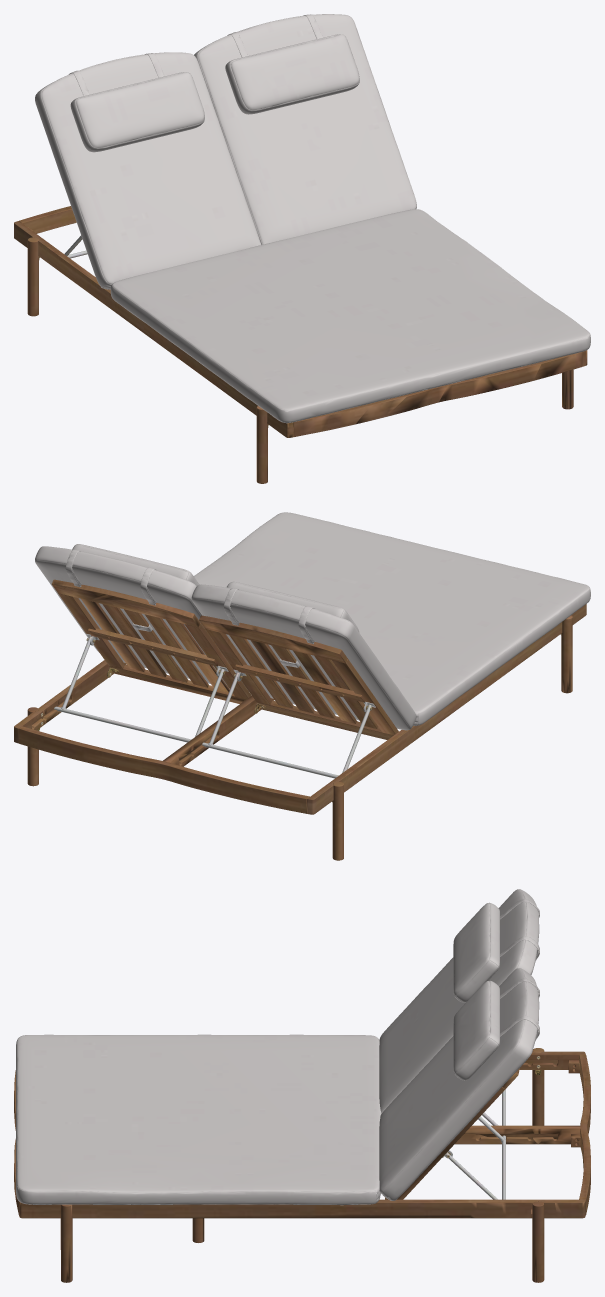
File: lounger.glb
3 views of the same model, one above another, from view 1: azimuth 30°, elevation 25°; view 2: azimuth 150°, elevation 25°; view 3: azimuth 270°, elevation 25° (orthographic). The views are drawn at different scales.
Visible parts, largest first — view 1: Object_7, Object_5; view 2: Object_7, Object_5; view 3: Object_7, Object_5.
Boxes of the visible parts, left/top/right/bottom form: Object_7: left=35, top=14, right=590, bottom=423; Object_5: left=14, top=206, right=587, bottom=483; Object_7: left=35, top=512, right=590, bottom=730; Object_5: left=14, top=579, right=586, bottom=860; Object_7: left=16, top=889, right=539, bottom=1205; Object_5: left=14, top=1048, right=590, bottom=1282.
Size of the model in its own units: 1.3 by 0.95 by 2.
2 materials, 2 textured.
